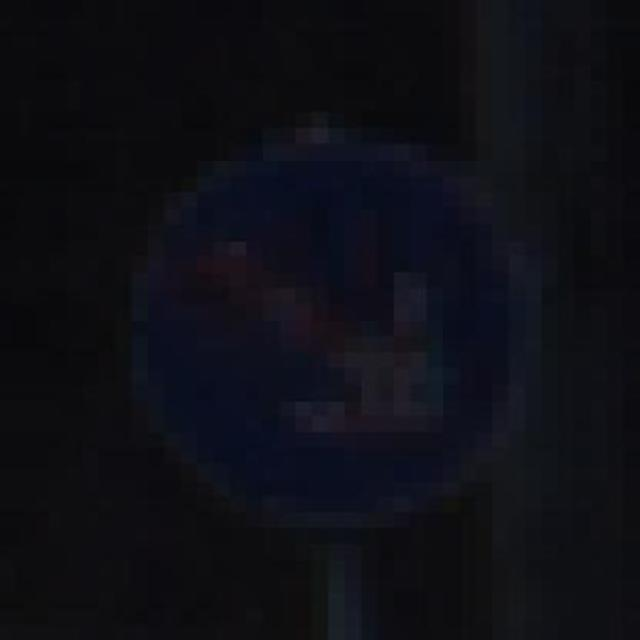Keep-Right: (99, 111, 558, 528)
